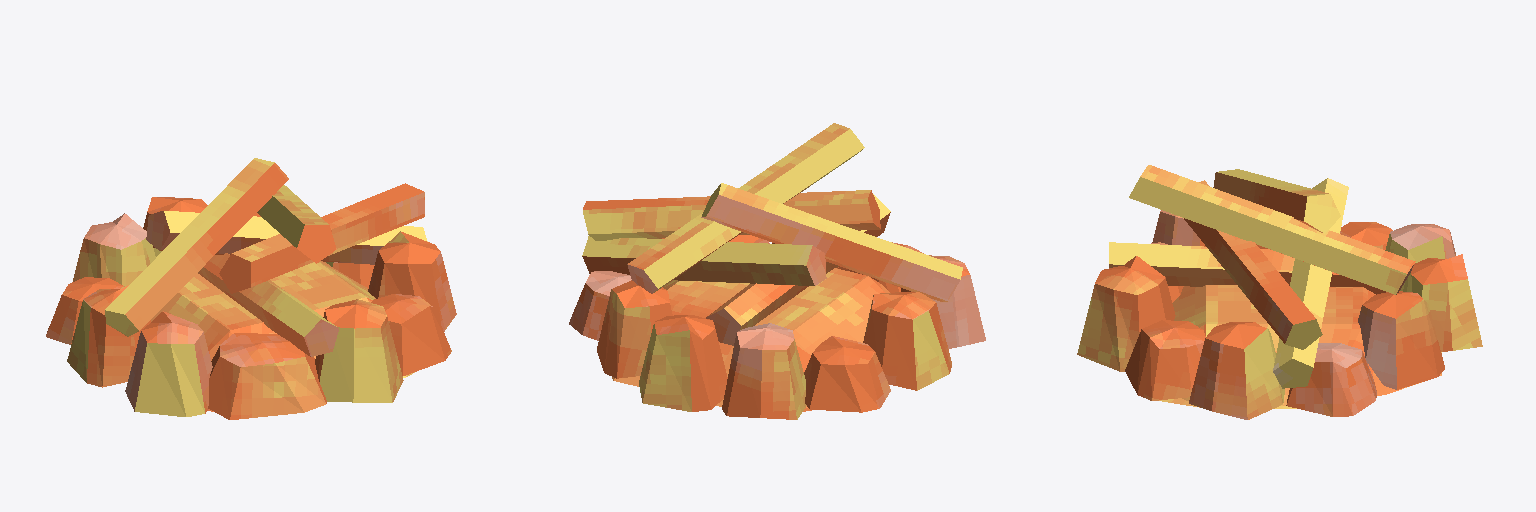
The picture shows the model from 3 angles: view 1: azimuth 30°, elevation 25°; view 2: azimuth 150°, elevation 25°; view 3: azimuth 270°, elevation 25°; orthographic projection.
Parts seen in each view (by area): view 1: Camp_fireFBXASC046001; view 2: Camp_fireFBXASC046001; view 3: Camp_fireFBXASC046001.
Part boxes in pixels (left/top/right/bottom): Camp_fireFBXASC046001: left=46, top=158, right=456, bottom=419; Camp_fireFBXASC046001: left=569, top=123, right=985, bottom=419; Camp_fireFBXASC046001: left=1077, top=165, right=1482, bottom=419.
Bounding box in the file's own units: 257 × 117 × 258.
Materials: 1 (1 with a texture image).